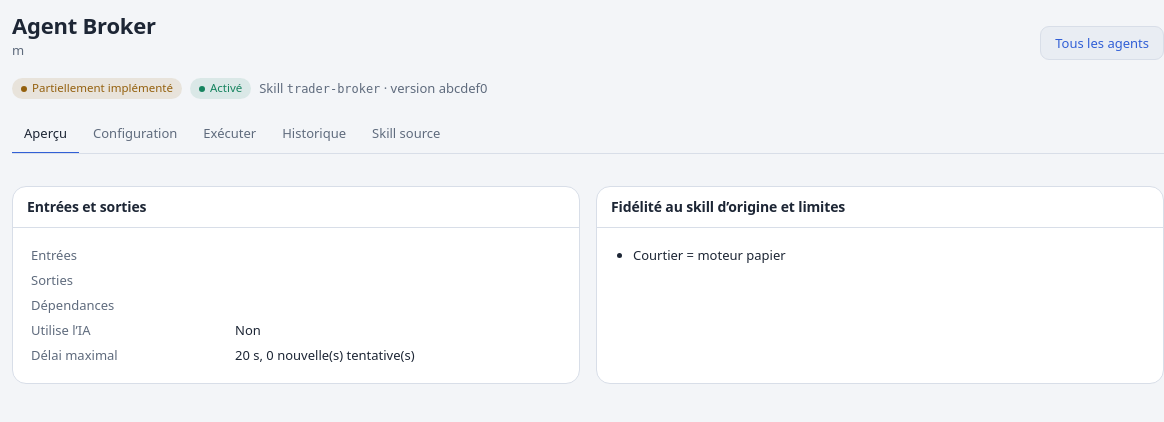
Scenario: pages › AgentDetail : le Broker n’a pas d’exécution manuelle
expect the text "Partiellement implémenté" is shown: met, box [12,78,182,99]
Click the tab "Exécuter": (230,135) [191,115,268,154]
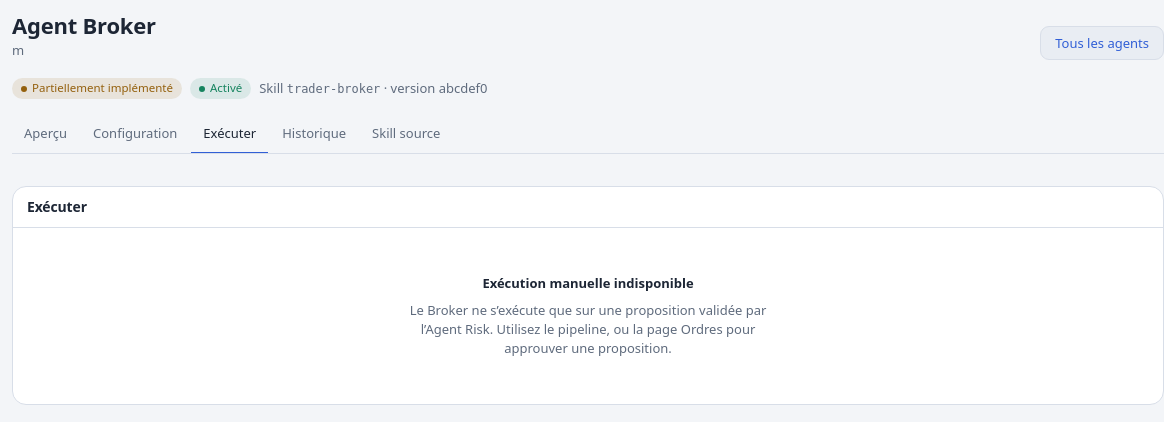
expect the text "Exécution manuelle indisponible" is shown: met, box [482,274,694,293]
